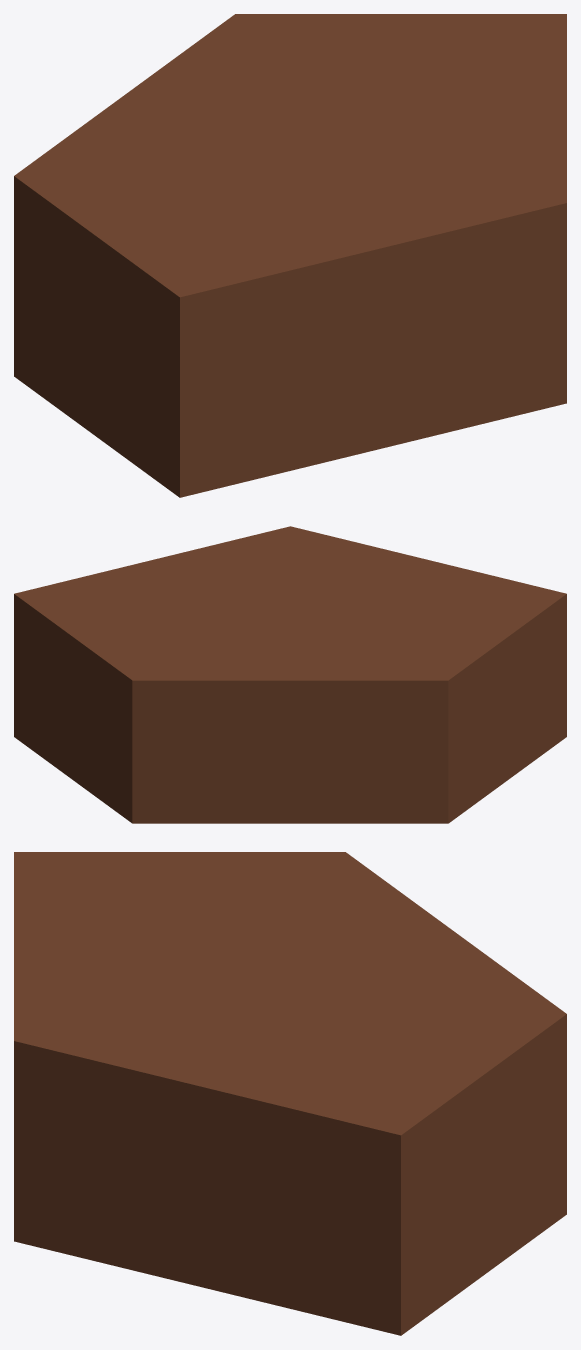
Rendered from _wooden_wall_2.glb.
3 views of the same model, one above another, from view 1: azimuth 30°, elevation 25°; view 2: azimuth 150°, elevation 25°; view 3: azimuth 270°, elevation 25° (orthographic). The views are drawn at different scales.
Visible parts, largest first — view 1: WoodenWallHalfCurvedFill; view 2: WoodenWallHalfCurvedFill; view 3: WoodenWallHalfCurvedFill.
Boxes of the visible parts, x1,y1,x2,y2 form: WoodenWallHalfCurvedFill: (14, 14, 566, 497); WoodenWallHalfCurvedFill: (14, 526, 566, 823); WoodenWallHalfCurvedFill: (14, 852, 566, 1335).
Bounding box in the file's own units: 1.52 × 0.5 × 1.25.
Materials: 1 (1 with a texture image).
